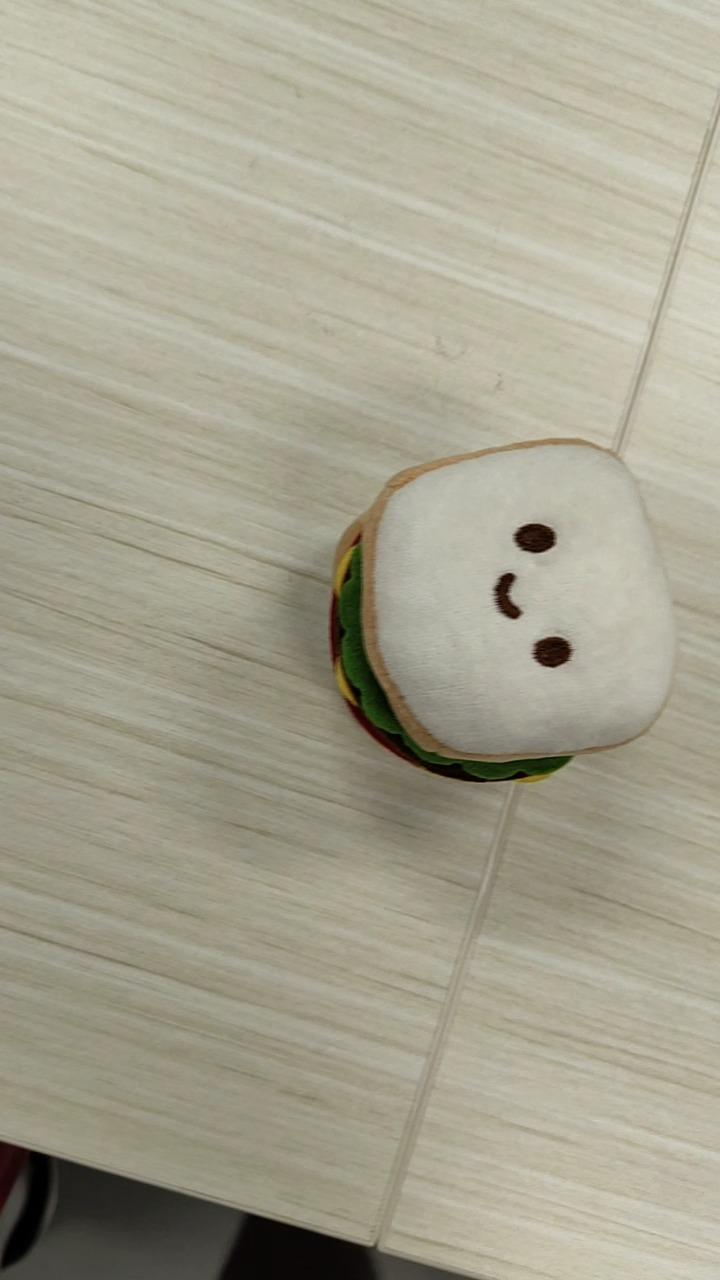objects: (327, 435, 675, 785)
